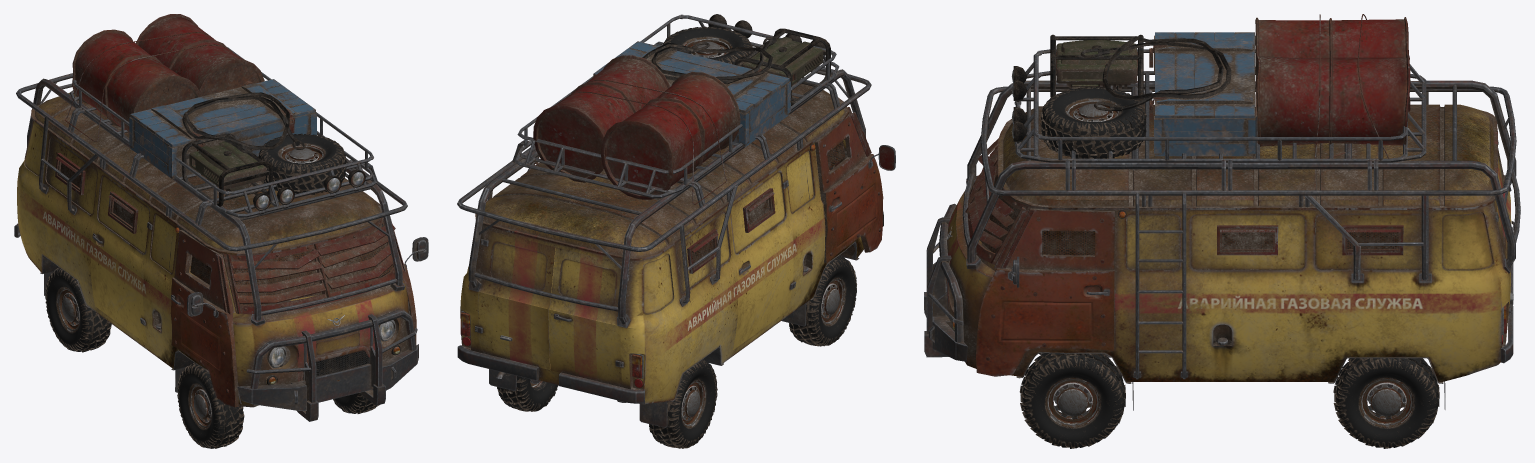
Rendered from Post_Apocalyptic_UAZ.fbx.
3 views of the same model, side by side, from view 1: azimuth 30°, elevation 25°; view 2: azimuth 150°, elevation 25°; view 3: azimuth 270°, elevation 25° (orthographic). The views are drawn at different scales.
Parts seen in each view (by area): view 1: _body_source, _other_source., _rama_source, wheels_right_1, _whels, wheels_right_2, wheels_left_1; view 2: _body_source, _other_source., _rama_source, wheels_right_1, wheels_right_2, _whels, wheels_left_2; view 3: _body_source, _other_source., _rama_source, wheels_left_1, wheels_left_2, _whels.
Boxes of the visible parts, x1=… form: _body_source: x1=17, y1=93, x2=416, y2=407; _other_source.: x1=55, y1=14, x2=405, y2=392; _rama_source: x1=14, y1=47, x2=428, y2=421; wheels_right_1: x1=177, y1=362, x2=244, y2=448; _whels: x1=258, y1=133, x2=346, y2=194; wheels_right_2: x1=45, y1=267, x2=111, y2=352; wheels_left_1: x1=333, y1=389, x2=379, y2=413; _body_source: x1=460, y1=82, x2=883, y2=404; _other_source.: x1=460, y1=14, x2=894, y2=388; _rama_source: x1=457, y1=14, x2=895, y2=427; wheels_right_1: x1=789, y1=255, x2=856, y2=346; wheels_right_2: x1=649, y1=359, x2=717, y2=448; _whels: x1=663, y1=26, x2=753, y2=66; wheels_left_2: x1=497, y1=376, x2=558, y2=411; _body_source: x1=945, y1=104, x2=1511, y2=381; _other_source.: x1=947, y1=14, x2=1513, y2=360; _rama_source: x1=924, y1=49, x2=1520, y2=410; wheels_left_1: x1=1019, y1=353, x2=1125, y2=448; wheels_left_2: x1=1333, y1=358, x2=1439, y2=448; _whels: x1=1040, y1=87, x2=1146, y2=158.
Bounding box in the file's own units: 290 × 350 × 524.
Materials: 4 (4 with a texture image).
